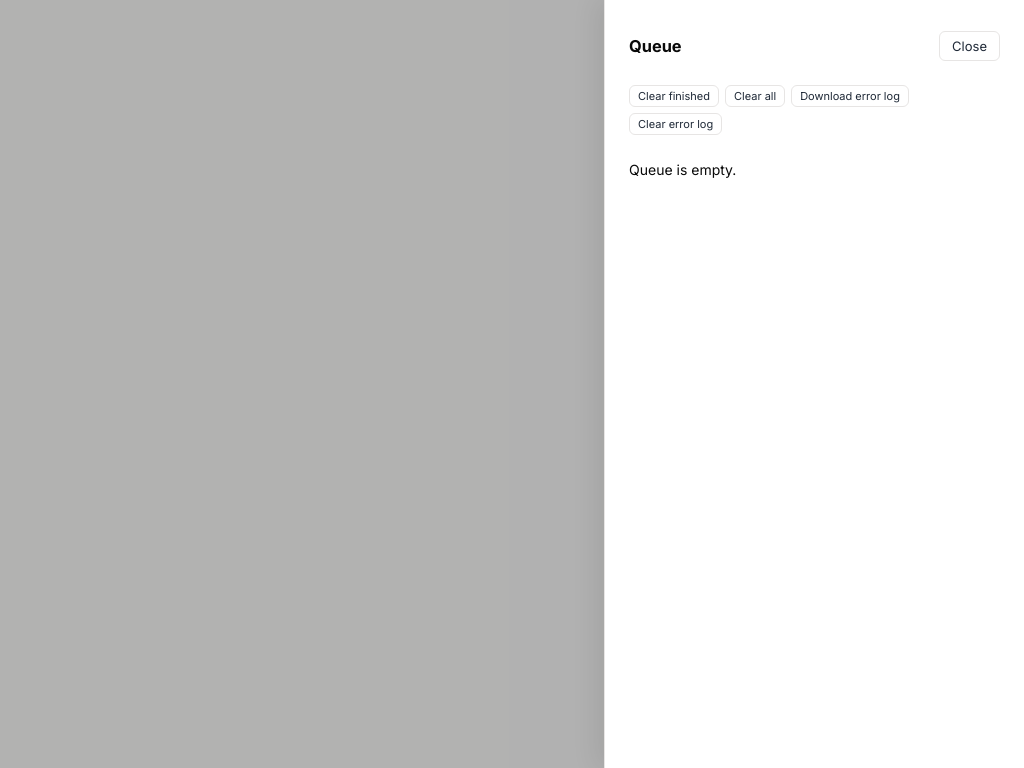
Test: QueueDrawer › asks for confirmation before clearing finished items
Later steps or results of the test are not shown.
Click the button "Clear finished".
click(674, 96)  # box [629, 85, 719, 107]
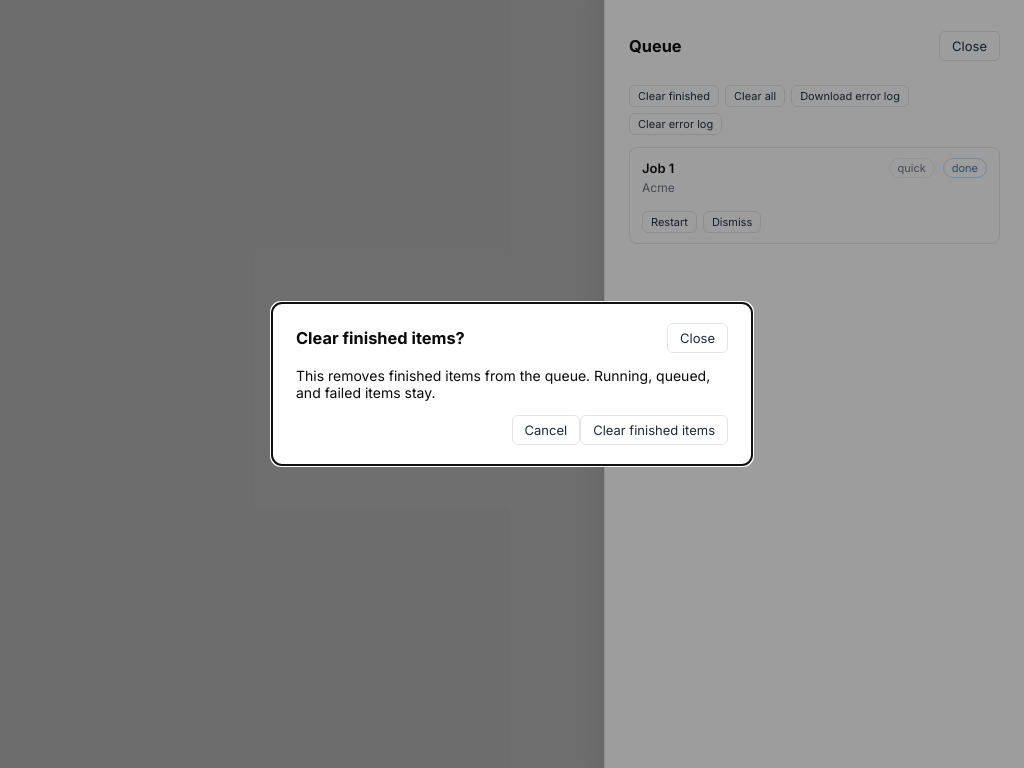
Expected: the dialog "Clear finished items?" is shown, [272, 303, 752, 465]
